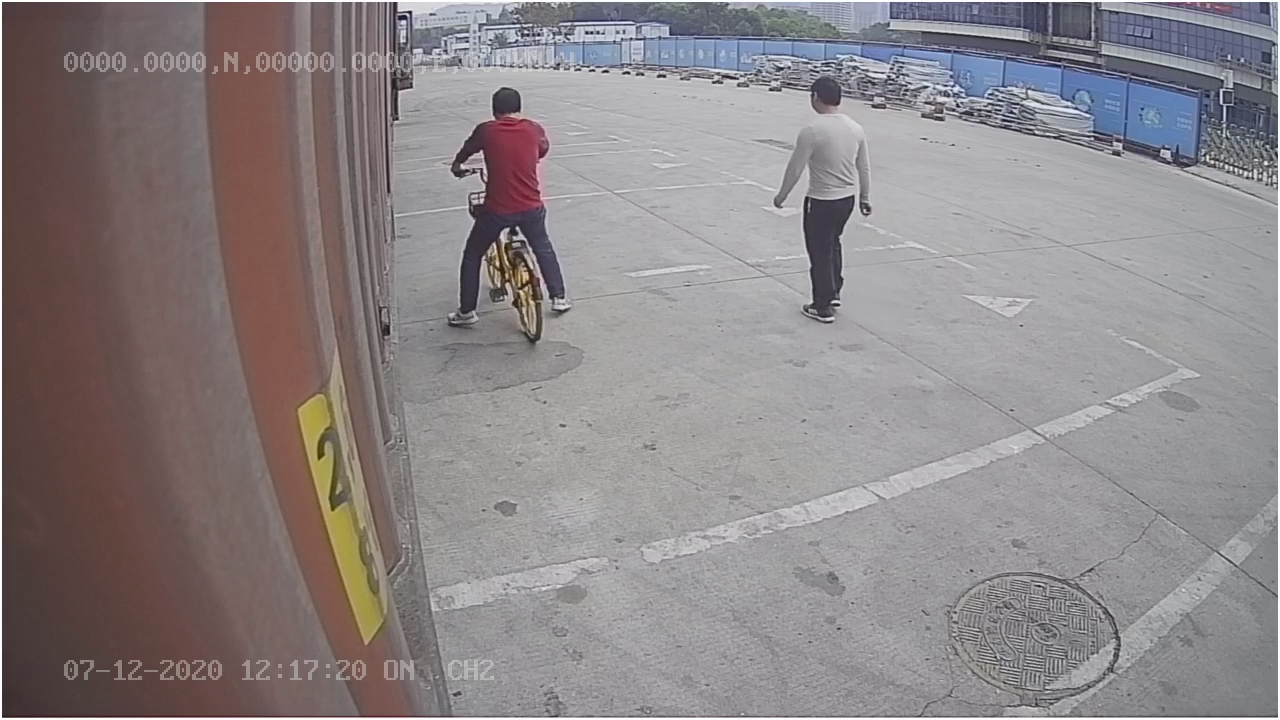person: (770, 71, 879, 327)
